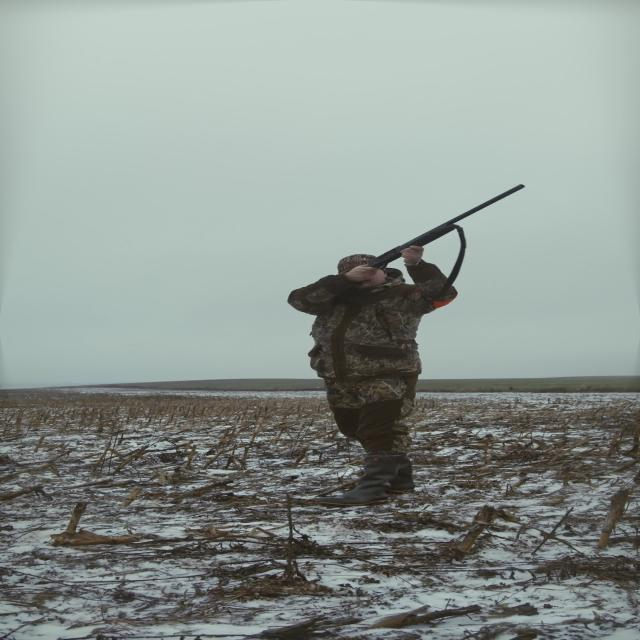Rifle: (364, 190, 522, 273)
